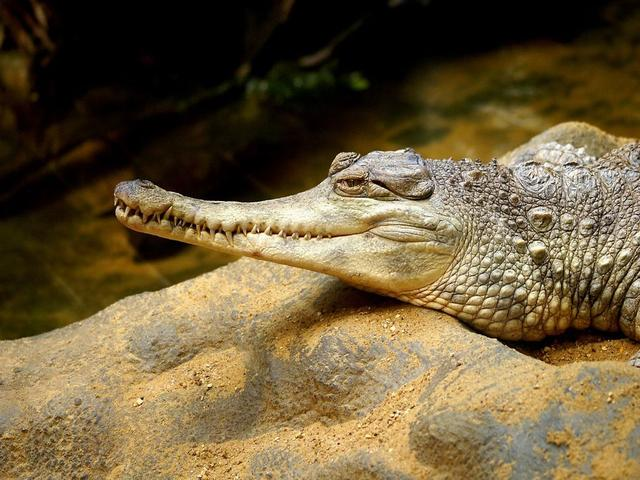crocodile: (89, 89, 640, 343)
